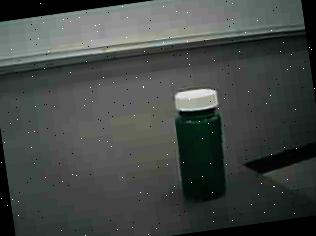Bottle C: (158, 73, 238, 208)
